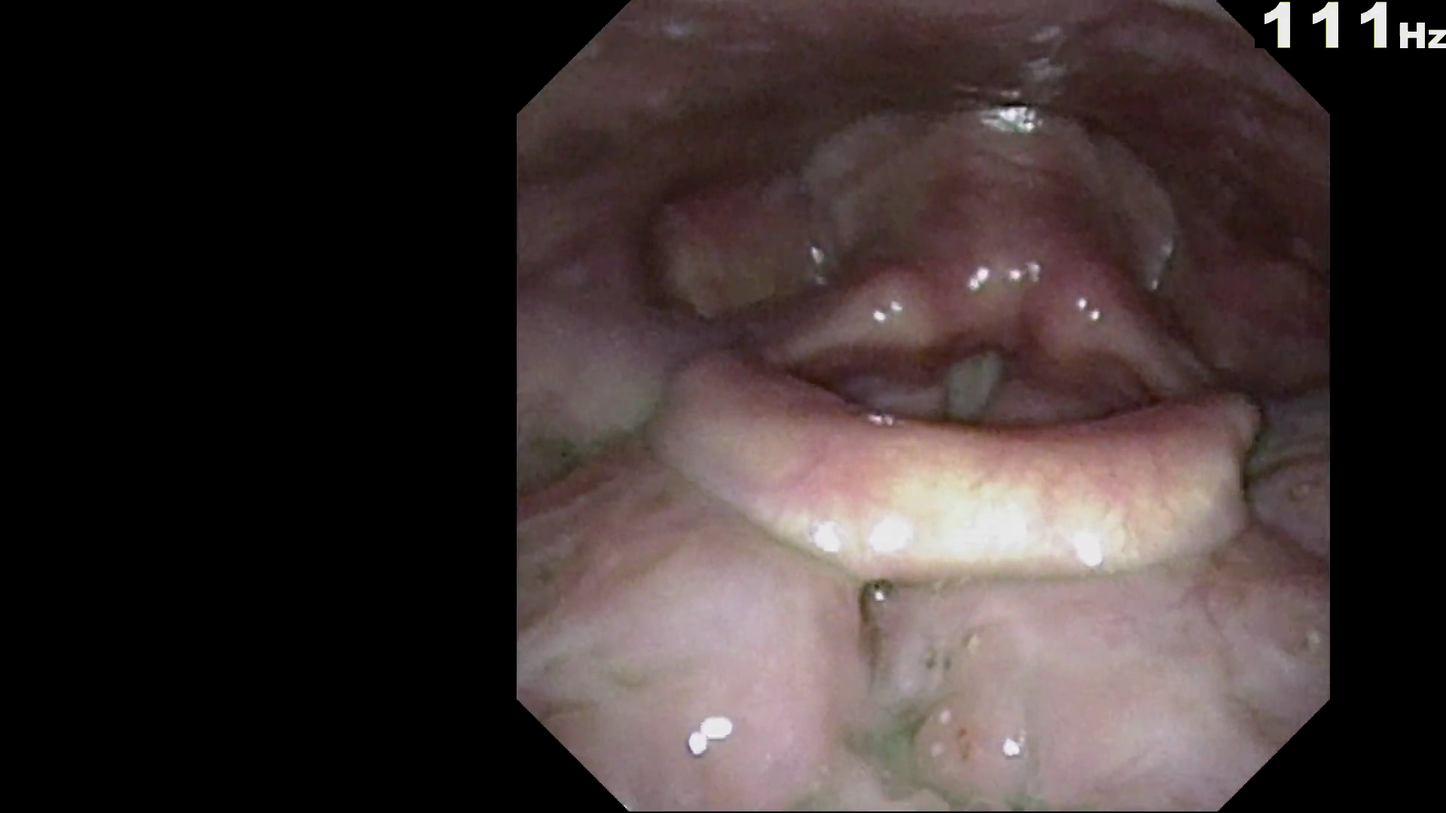epiglottis: (646, 345, 1268, 583)
trachea: (932, 327, 1019, 438)
